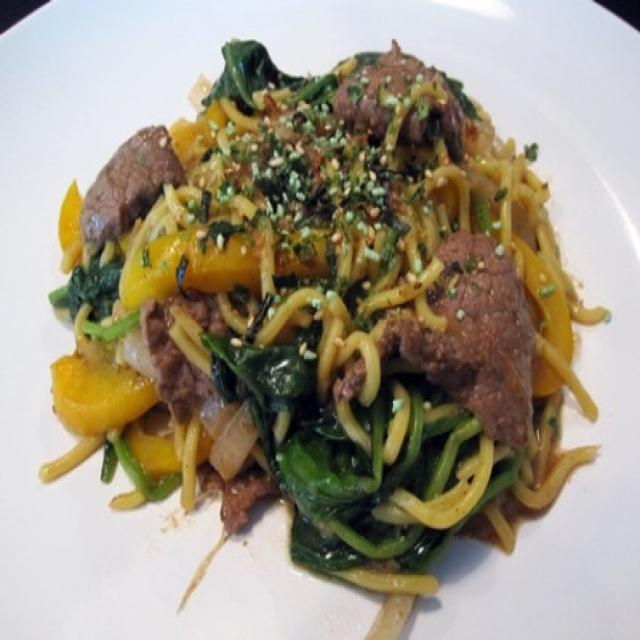面条主食: (33, 29, 595, 608)
